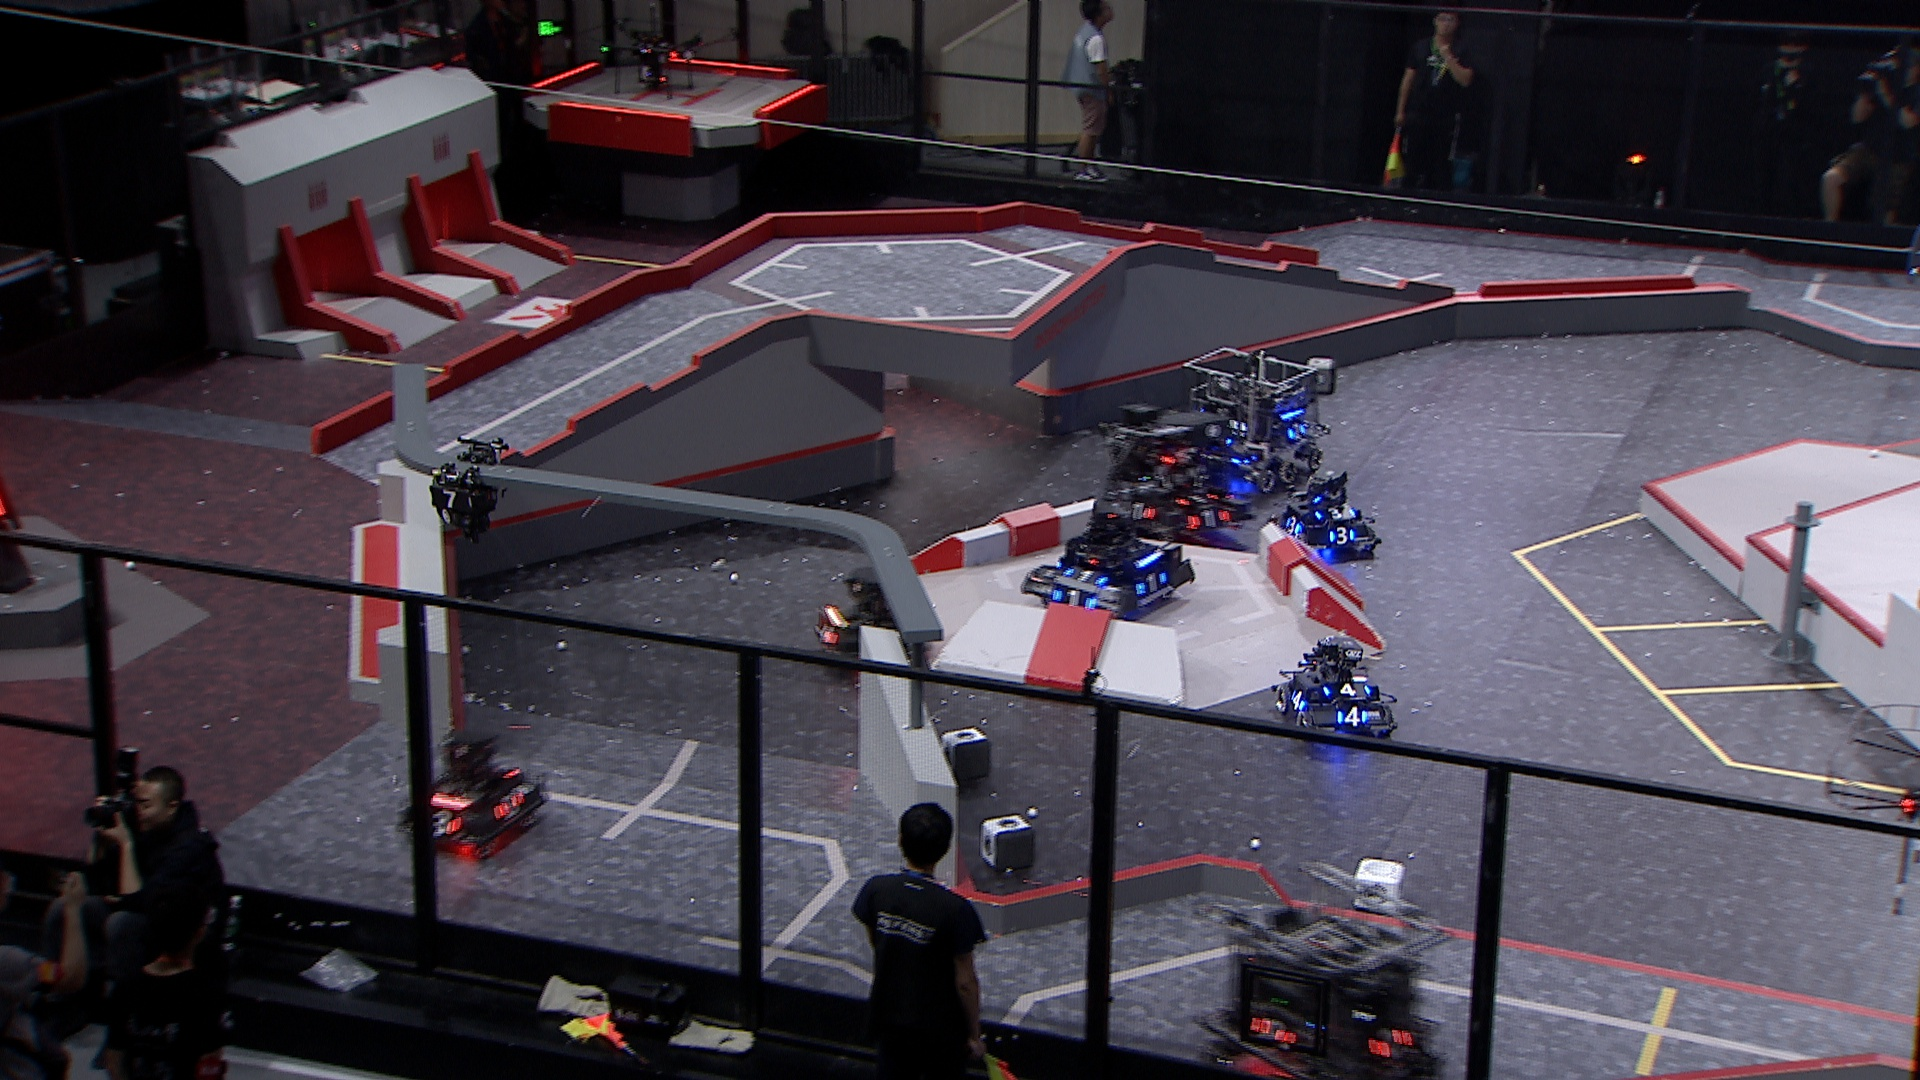armor: (1251, 1015, 1302, 1050), (1187, 508, 1232, 534), (1051, 585, 1100, 609), (425, 812, 465, 840), (1371, 1031, 1411, 1059), (1060, 566, 1109, 588), (1317, 680, 1371, 698), (495, 790, 527, 818), (429, 491, 473, 510), (1121, 501, 1159, 524), (1134, 572, 1167, 597), (1309, 506, 1357, 522), (1174, 491, 1220, 506), (1283, 688, 1309, 716), (1337, 707, 1370, 727), (1324, 527, 1356, 547), (1282, 423, 1309, 443), (1280, 516, 1304, 535), (818, 621, 836, 646)
car: (1196, 860, 1453, 1080), (1091, 400, 1245, 547), (1178, 348, 1329, 495), (1017, 500, 1196, 622), (392, 731, 543, 858), (1271, 633, 1399, 749), (808, 566, 931, 675), (1271, 469, 1382, 562)
watcher: (422, 434, 514, 538)
